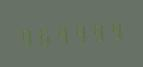nine: (17, 23, 34, 49), (54, 21, 71, 47), (72, 19, 89, 45), (90, 18, 107, 44), (108, 17, 125, 43)
six: (35, 22, 52, 48)
